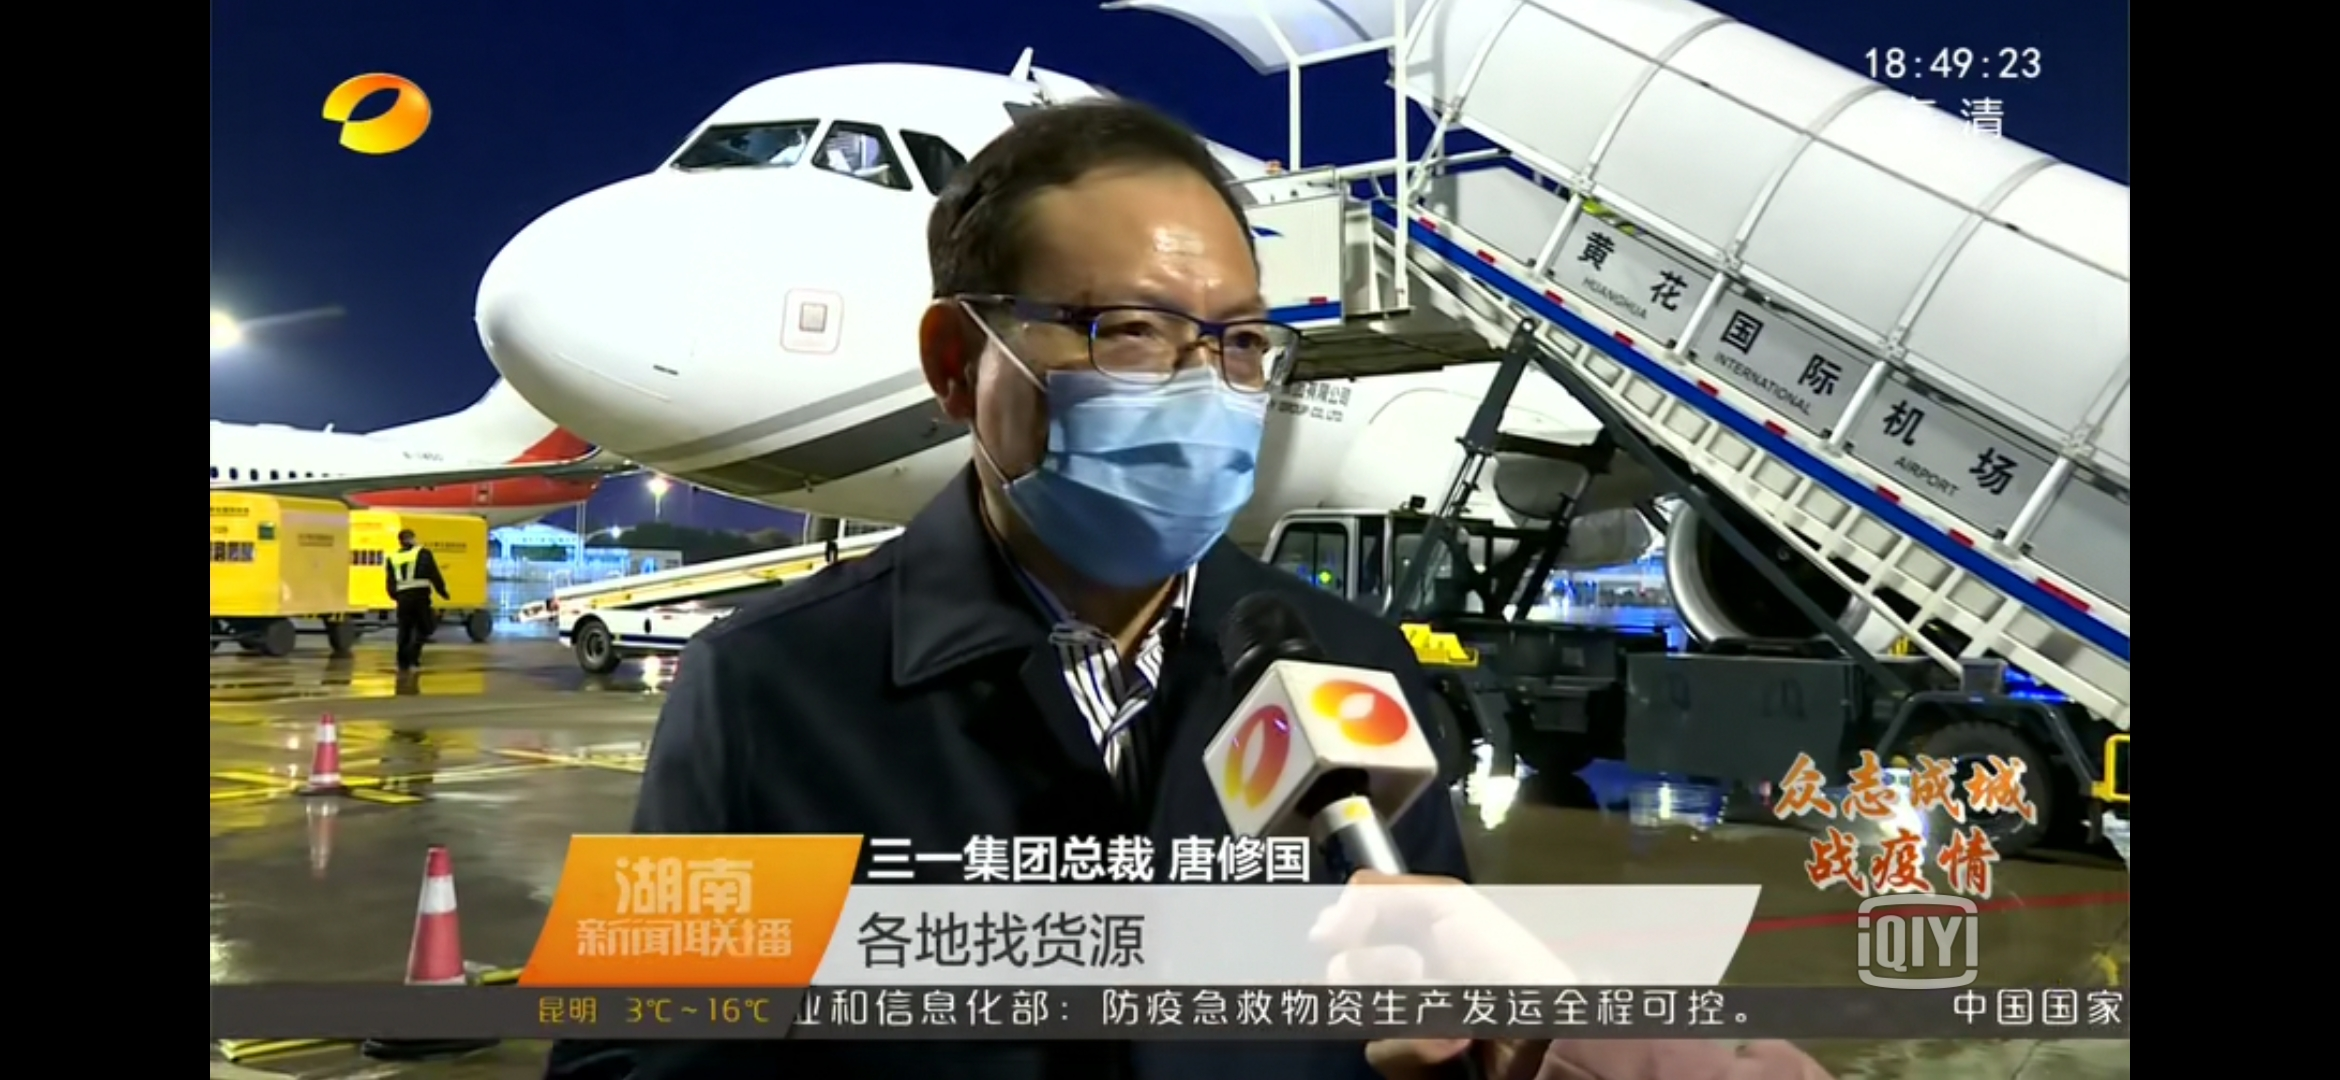correctlyWear: (922, 249, 1307, 595)
